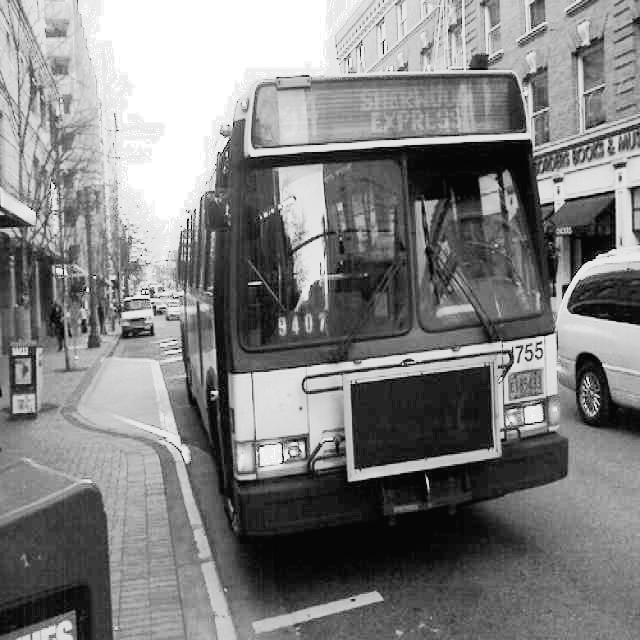Bus: (168, 67, 577, 556)
Car: (551, 218, 640, 447), (110, 278, 155, 360), (157, 267, 182, 338)
